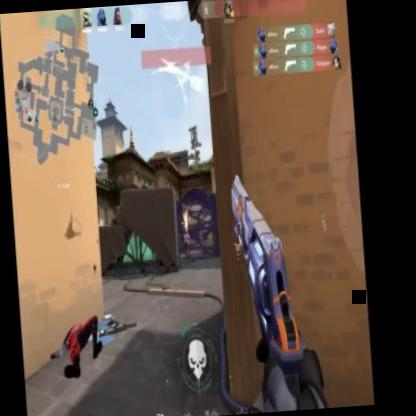enemy: (202, 225, 207, 250)
enemy_head: (203, 226, 205, 231)
